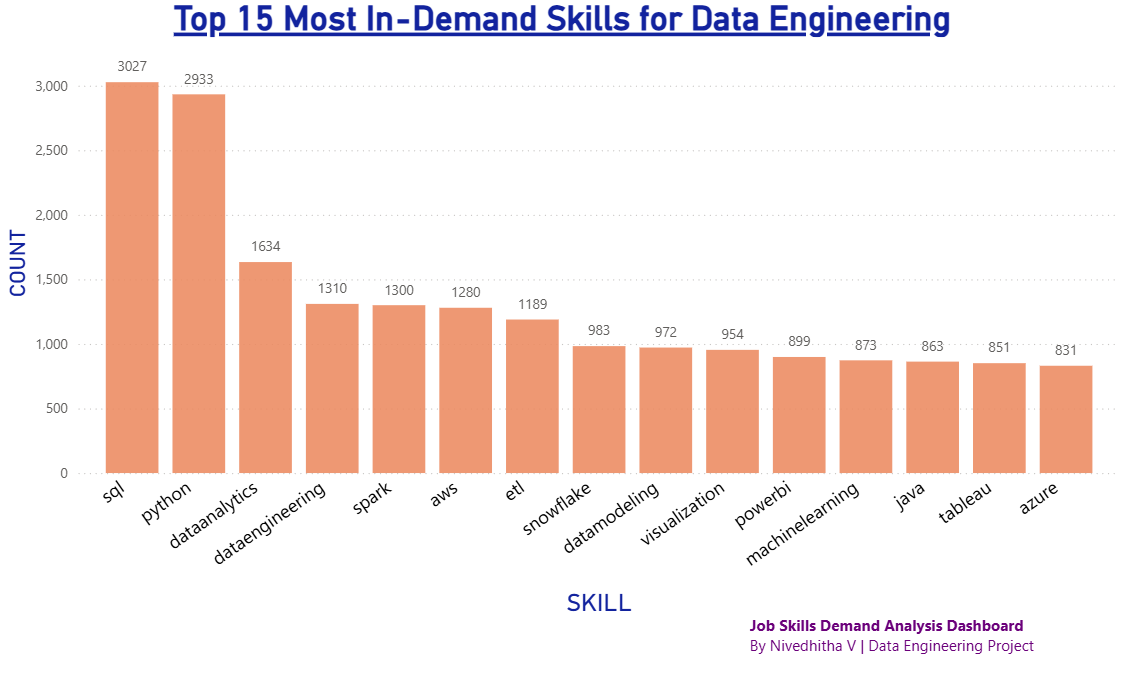

What the dashboard file says about the page in this screenshot:
{"tool":"powerbi","page":{"name":"Page 1","canvas":[1280,720],"ordinal":0},"visuals":[{"type":"clusteredColumnChart","title":"Top 15 Most In-Demand Skills for Data Engineering ","fields":{"Category":["TOP_SKILLS.SKILL"],"Y":["Sum(TOP_SKILLS.COUNT)"]},"box":[0,0,990.5,547.8],"z":0},{"type":"textbox","box":[654.4,537.8,335.6,62.2],"z":1}]}

Visuals, with their boxes in screenshot pixels (x1, y1, x2, y2):
"Top 15 Most In-Demand Skills for Data Engineering " clusteredColumnChart: left=101, top=30, right=944, bottom=496
textbox: left=658, top=487, right=944, bottom=540
